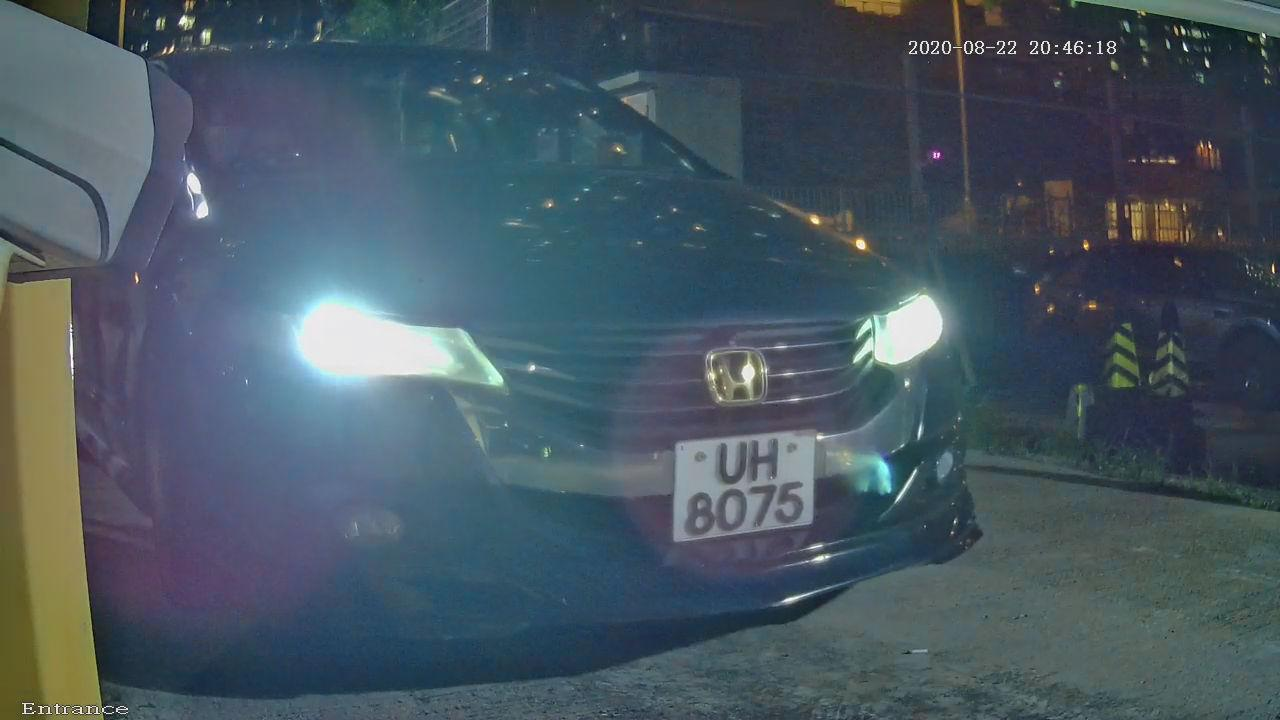Car: (18, 17, 1109, 701)
License Plate: (646, 418, 841, 550)
